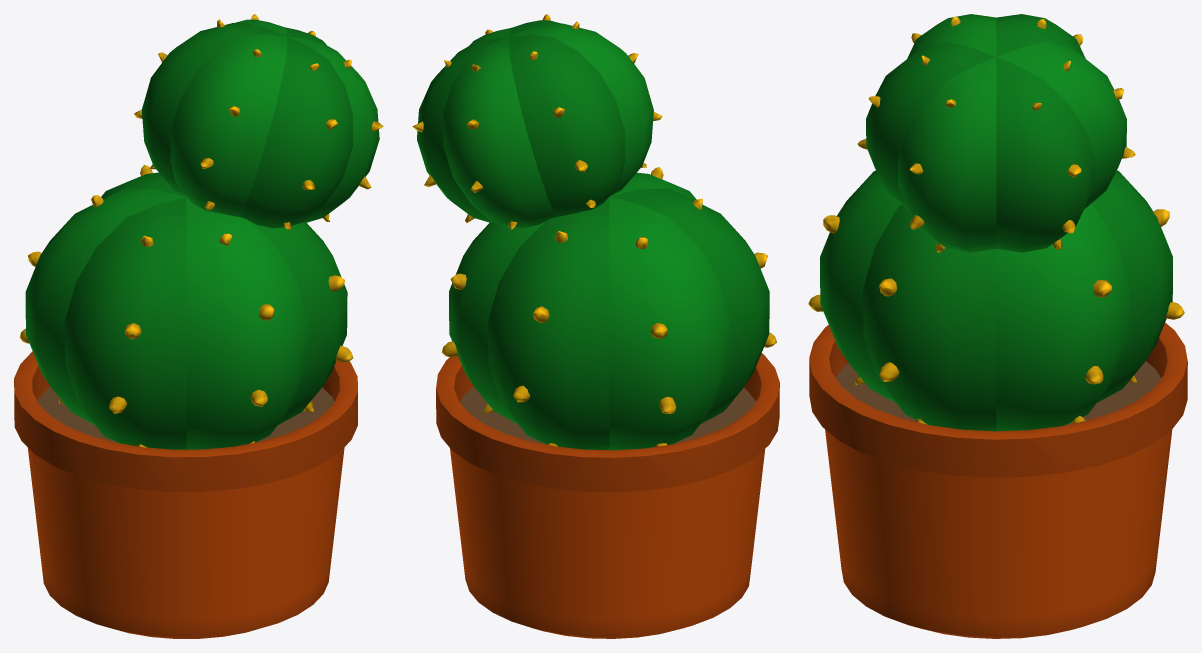
File: Cactus Plant.fbx
3 renders of one model, left to right at view 1: azimuth 30°, elevation 25°; view 2: azimuth 150°, elevation 25°; view 3: azimuth 270°, elevation 25°, orthographic. The views are drawn at different scales.
Visible parts, largest first — view 1: Cactus_Plant; view 2: Cactus_Plant; view 3: Cactus_Plant.
Boxes of the visible parts, bbox=[...] form: Cactus_Plant: bbox=[14, 14, 383, 638]; Cactus_Plant: bbox=[412, 14, 779, 638]; Cactus_Plant: bbox=[808, 14, 1187, 638].
Size of the model in its own units: 143 by 232 by 135.
